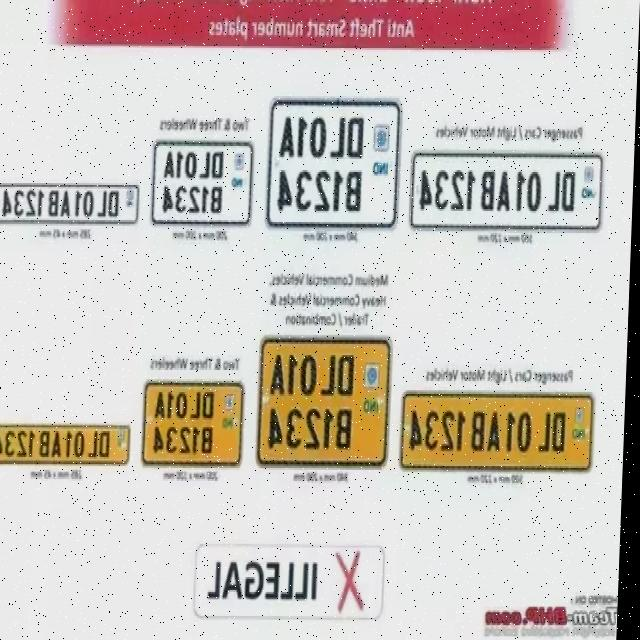plate: (254, 332, 399, 475), (268, 93, 406, 238), (400, 386, 604, 480), (405, 148, 609, 242), (139, 369, 248, 473), (144, 130, 260, 227), (0, 420, 137, 475), (0, 180, 141, 226)
